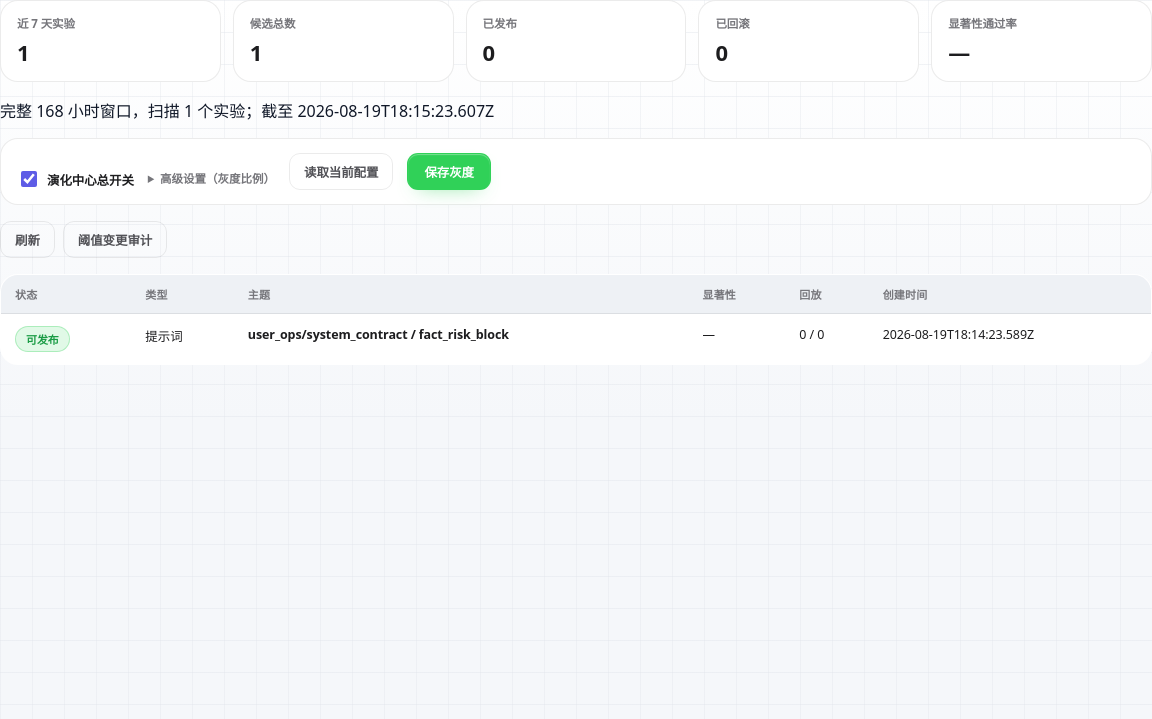
Scenario: EvolutionCenterTab › renders prompt diff in two distinct panes without bleed-through
The width and height of the screenshot is (1152, 719).
What coordinates should you click on to do the following:
click the row that starts with "可发布"
I would click on:
 (576, 339)
Its box is [0,314,1151,364].
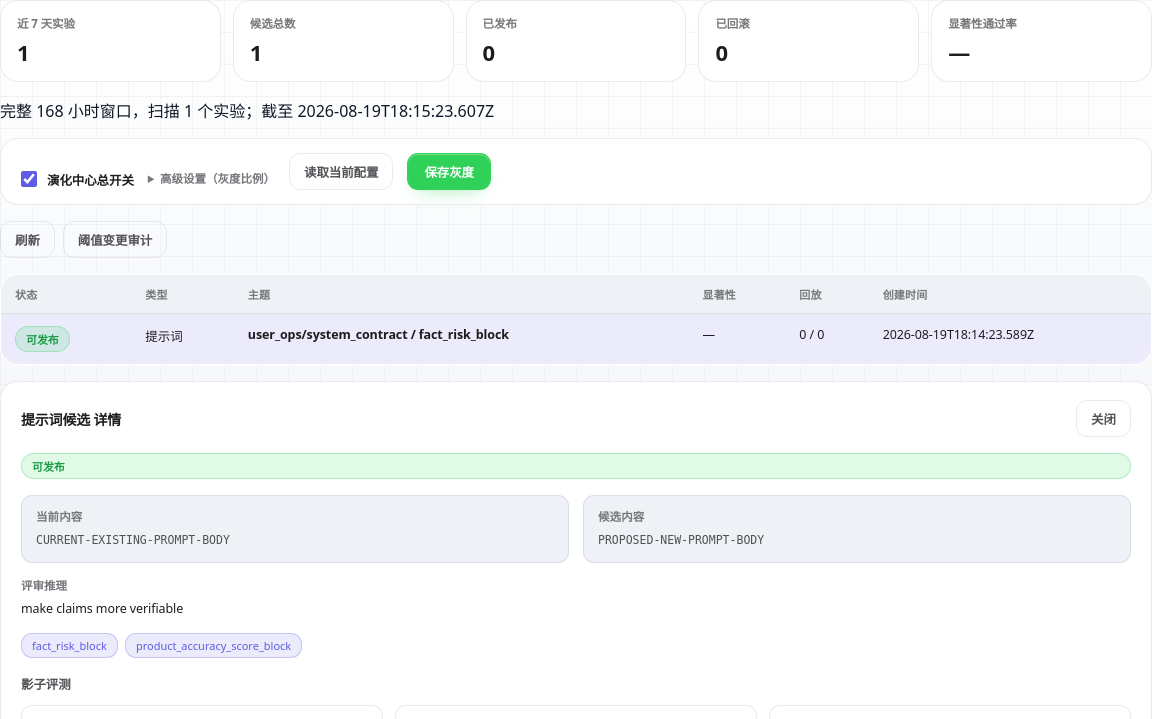
Check: the element with test id "prompt-diff" is shown, box [21,495,1131,658]
Check: the element with test id "prompt-diff-current" shows "CURRENT-EXISTING-PROMPT-BODY", box [36,533,230,547]
Check: the element with test id "prompt-diff-proposed" shows "PROPOSED-NEW-PROMPT-BODY", box [598,533,764,547]
